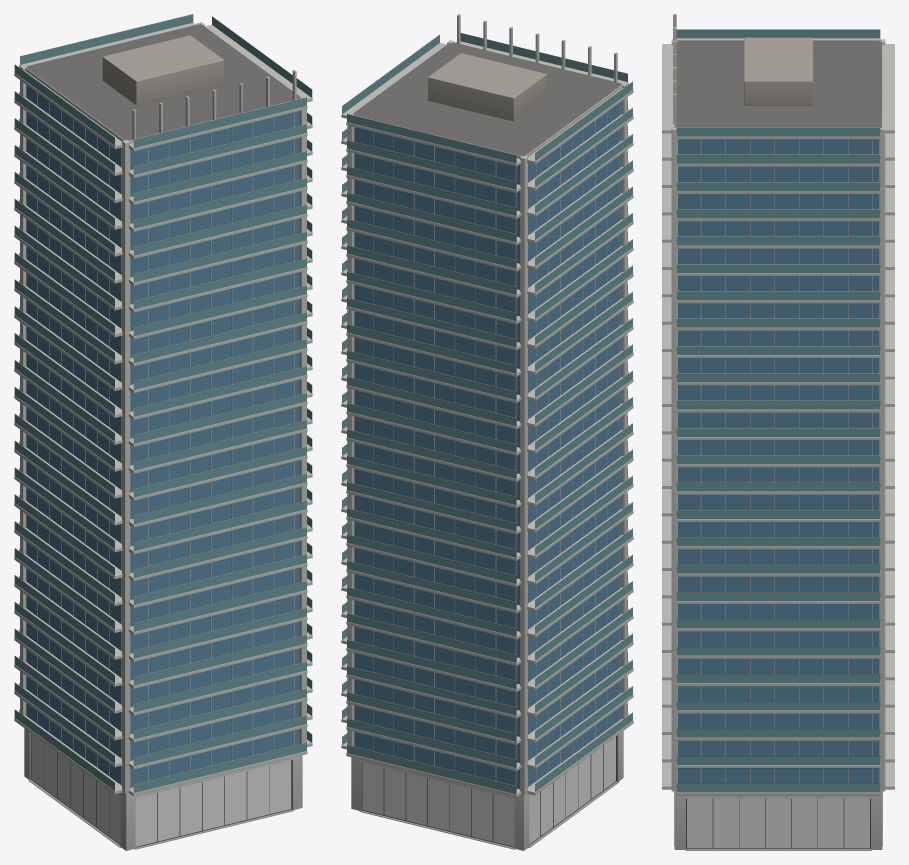
File: CondoTowerMIA.fbx
The picture shows the model from 3 angles, left to right: view 1: azimuth 30°, elevation 25°; view 2: azimuth 150°, elevation 25°; view 3: azimuth 270°, elevation 25°; orthographic projection. The views are drawn at different scales.
Visible parts, largest first — view 1: CondoTowerMIA; view 2: CondoTowerMIA; view 3: CondoTowerMIA.
Boxes of the visible parts, x1,y1,x2,y2 form: CondoTowerMIA: [14, 14, 312, 850]; CondoTowerMIA: [341, 14, 633, 850]; CondoTowerMIA: [662, 14, 894, 850].
Bounding box in the file's own units: 24.7 × 88.07 × 24.7.
